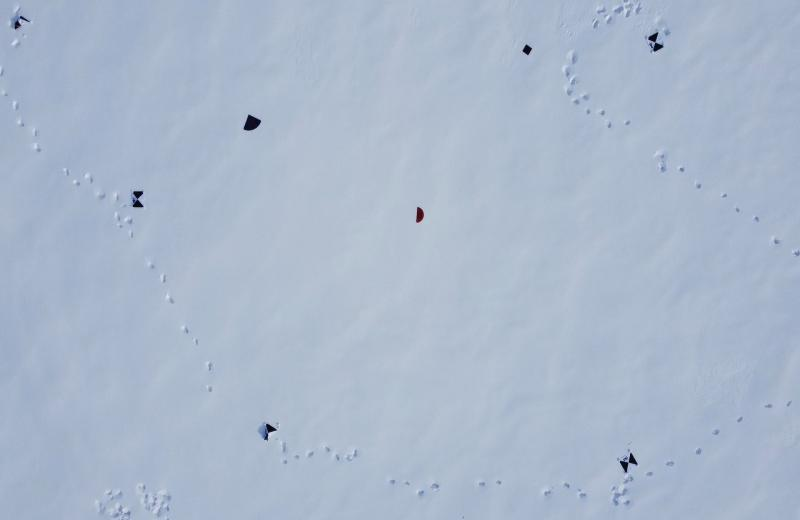Quarter Circle: (242, 114, 262, 134)
Semi Circle: (415, 206, 426, 223)
Square: (522, 42, 533, 58)
